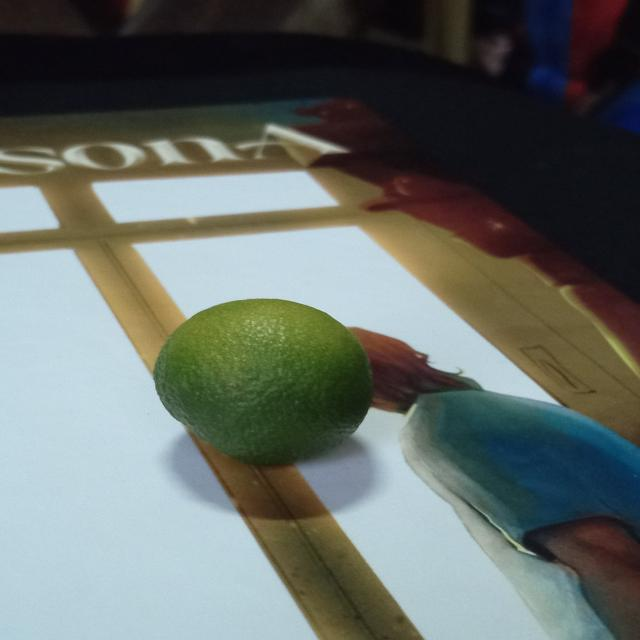heathy: (149, 292, 376, 465)
